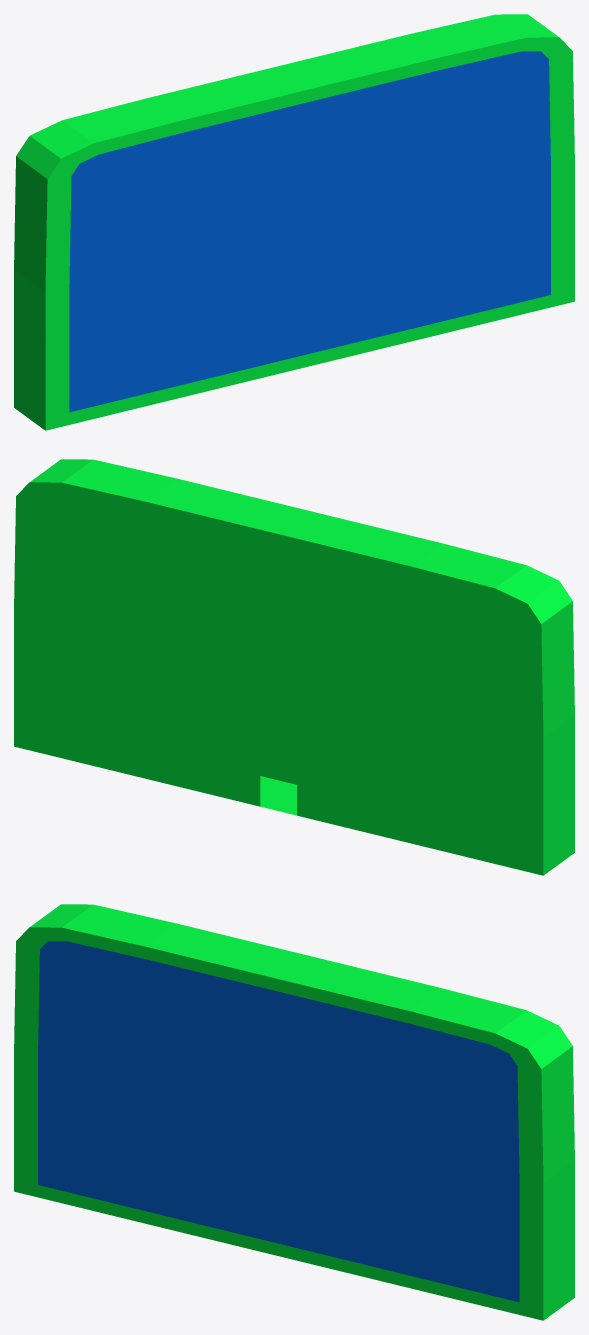
Rendered from Goleiro Tipo 2.fbx.
3 renders of one model, top to bottom at view 1: azimuth 30°, elevation 25°; view 2: azimuth 150°, elevation 25°; view 3: azimuth 330°, elevation 25°, orthographic.
Parts seen in each view (by area): view 1: Goleiro_2; view 2: Goleiro_2; view 3: Goleiro_2.
Part boxes in pixels (bbox=[...]): Goleiro_2: bbox=[14, 14, 574, 430]; Goleiro_2: bbox=[14, 459, 574, 875]; Goleiro_2: bbox=[14, 904, 574, 1320].
Size of the model in its own units: 500 by 250 by 51.57.
